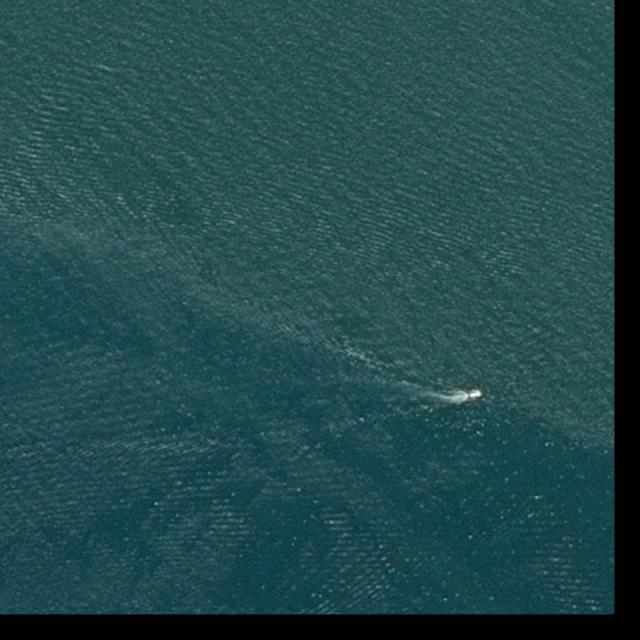ship: (469, 392, 486, 399)
